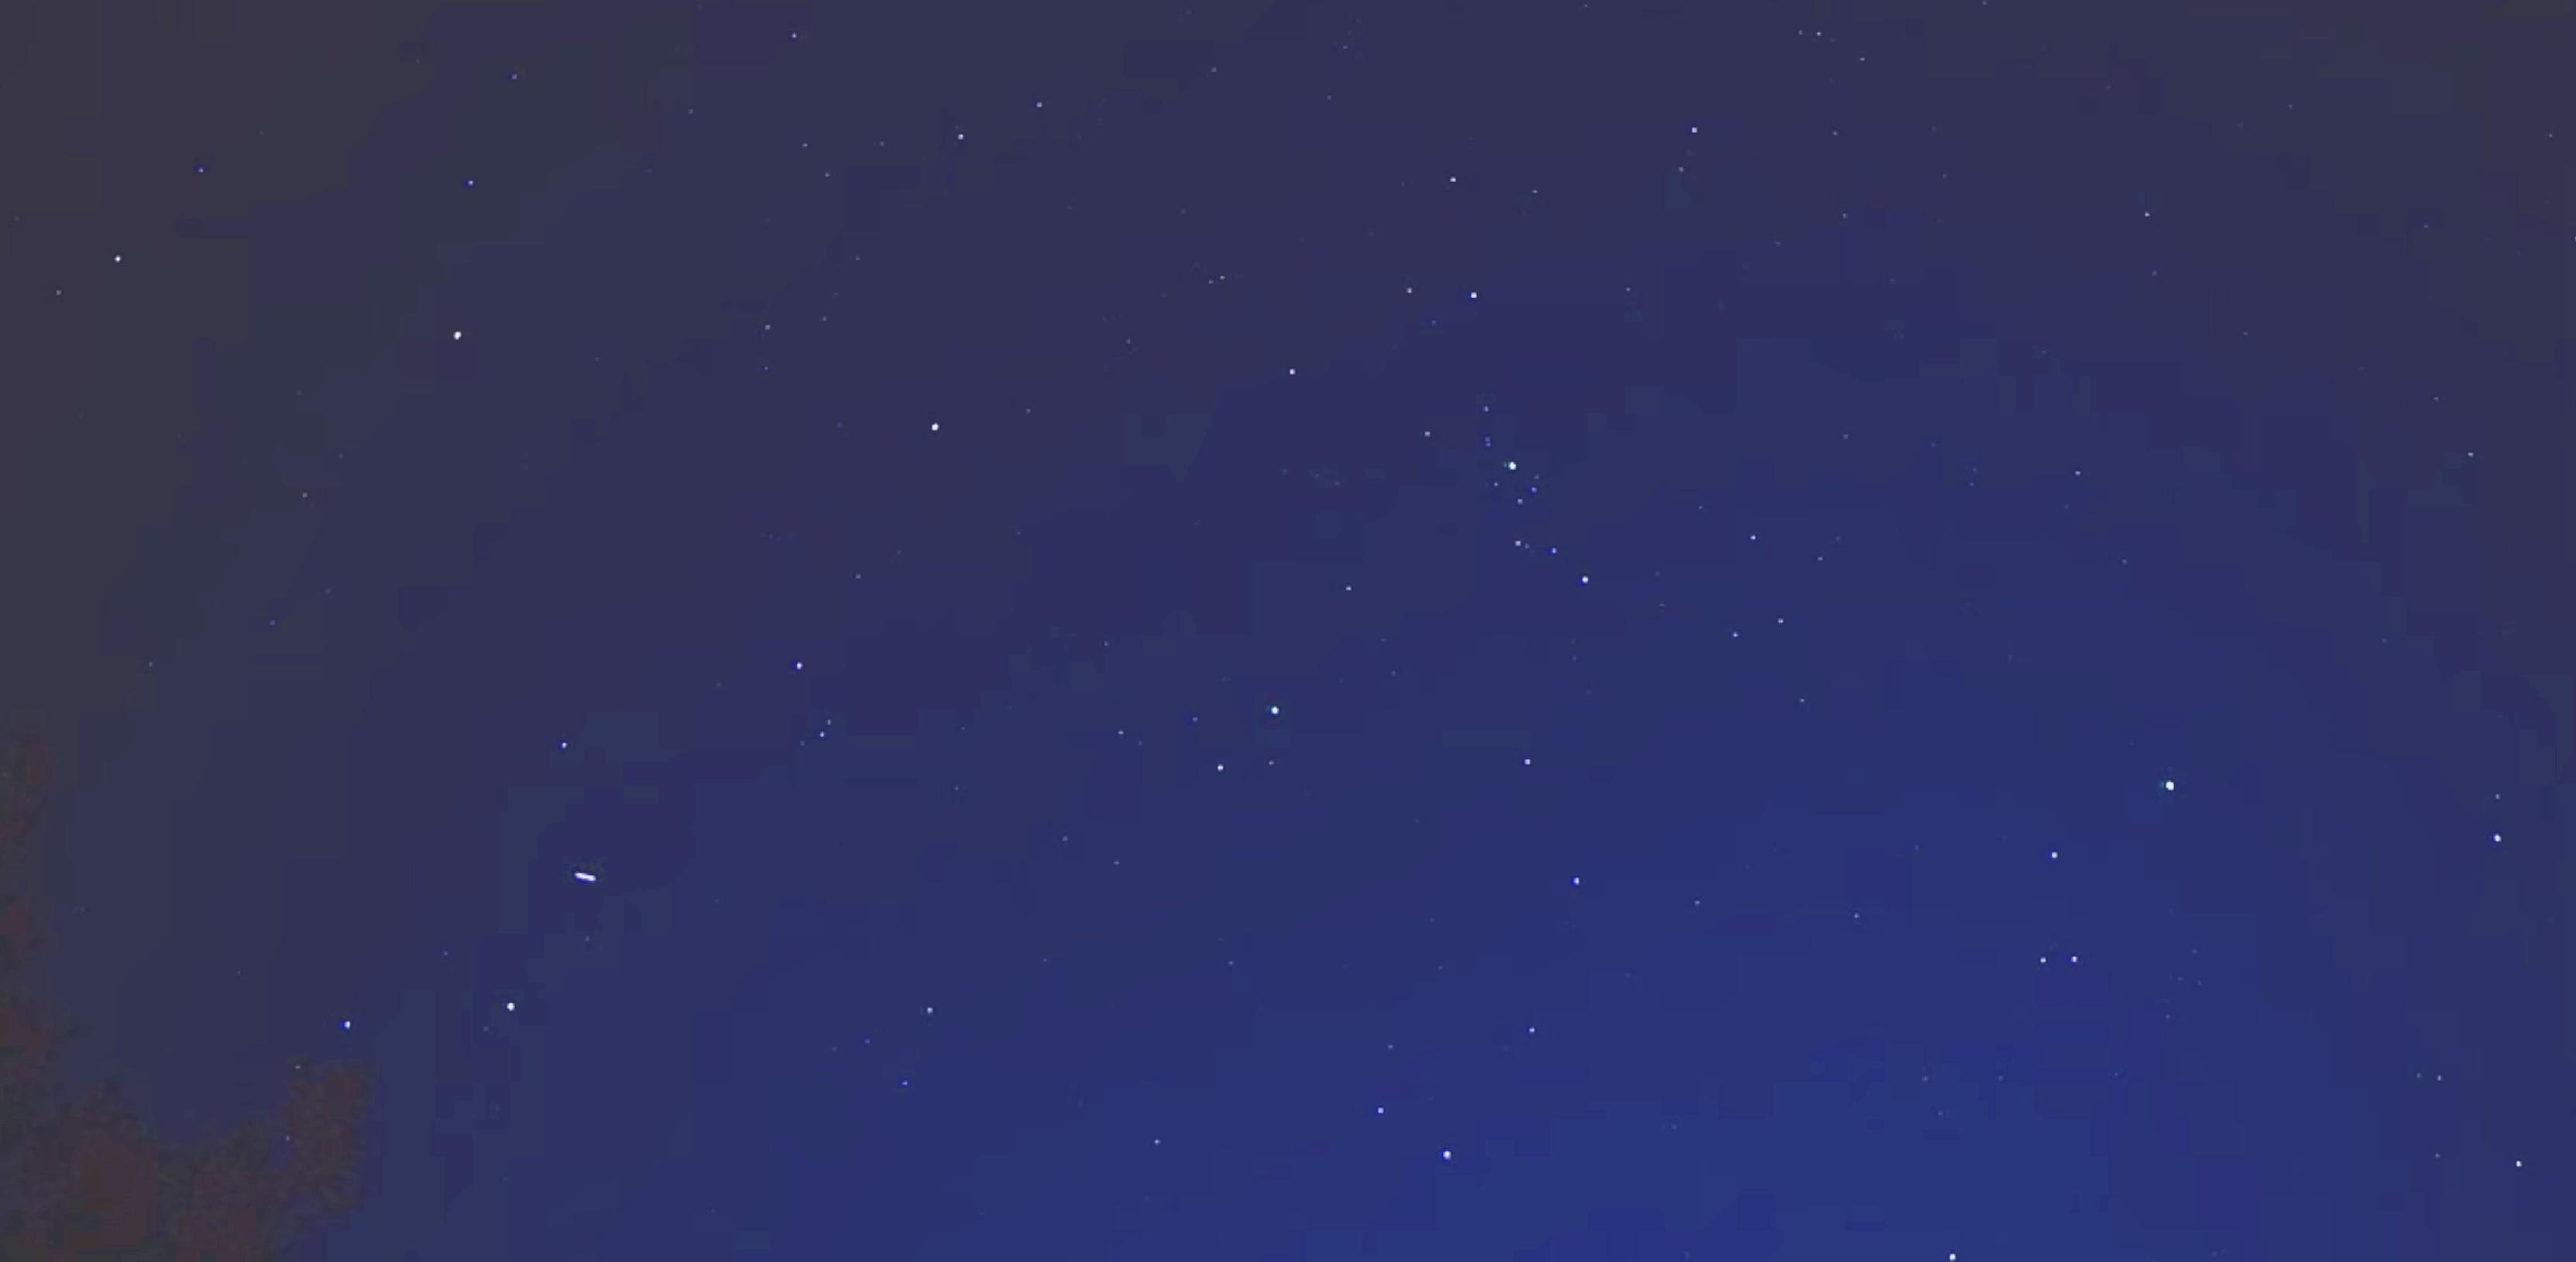meteorite: (550, 864, 623, 897)
